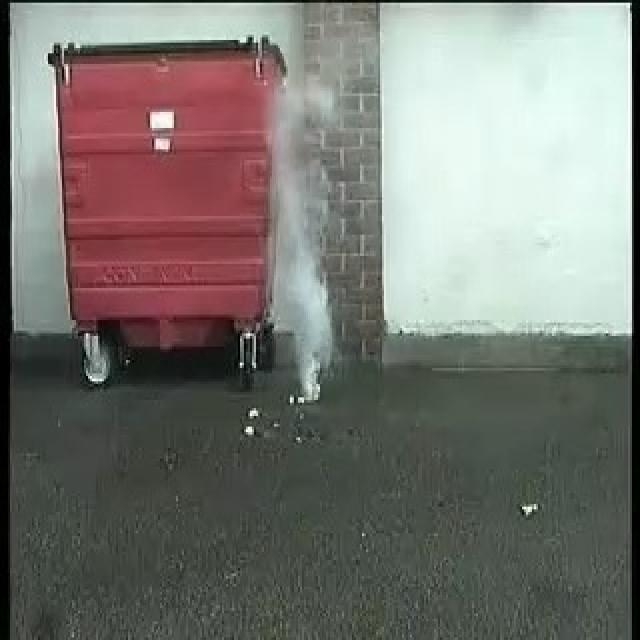smoke: (274, 46, 350, 387)
